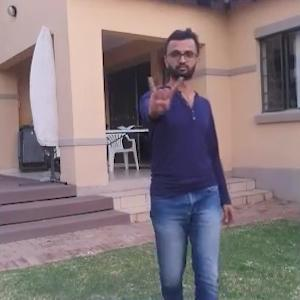takeoff-hand: (143, 68, 187, 116)
